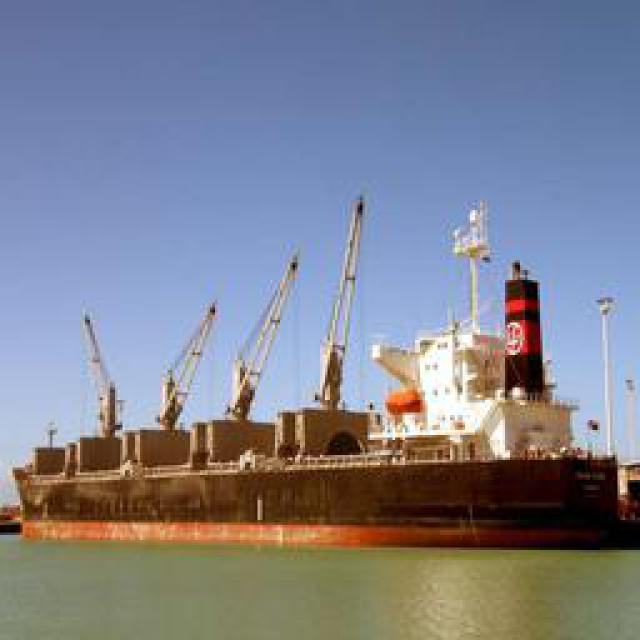Ship: (16, 179, 640, 538)
